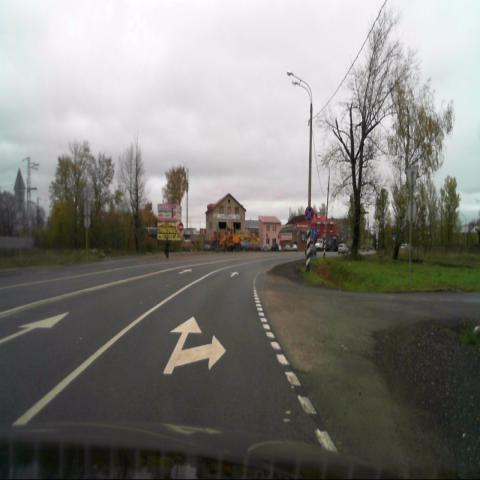3_27: (305, 207, 313, 222)
